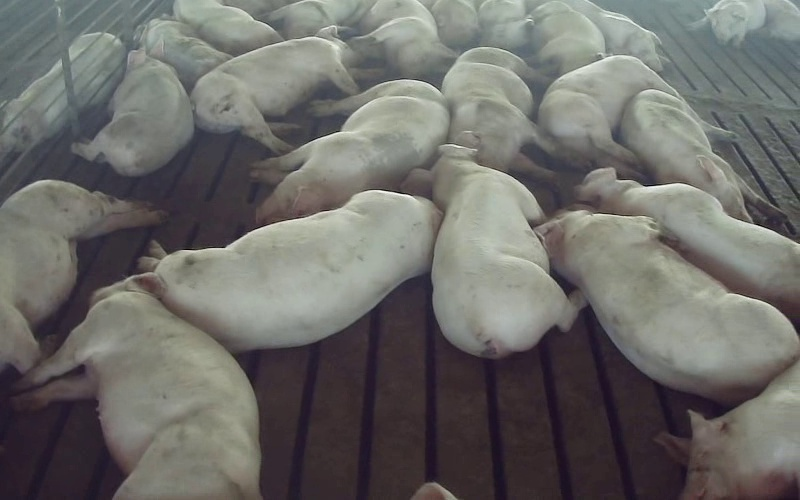pig: (13, 273, 258, 499), (537, 210, 799, 405), (401, 144, 585, 358), (576, 168, 799, 321), (0, 180, 165, 372), (251, 80, 449, 223), (191, 26, 385, 153), (620, 90, 785, 222), (655, 360, 799, 499), (441, 47, 579, 181), (539, 55, 678, 176), (72, 49, 193, 175), (350, 0, 456, 79), (562, 0, 662, 71), (140, 19, 231, 91), (173, 0, 283, 55), (530, 2, 605, 75), (689, 0, 799, 45), (478, 0, 533, 50)
